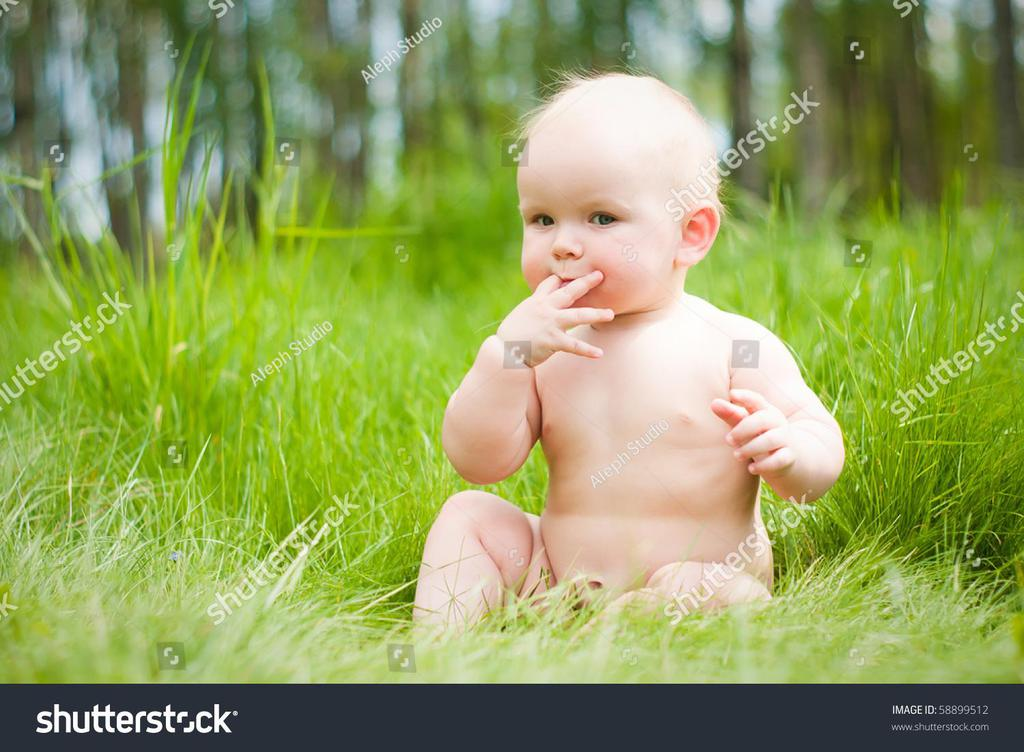child: (397, 53, 863, 701)
